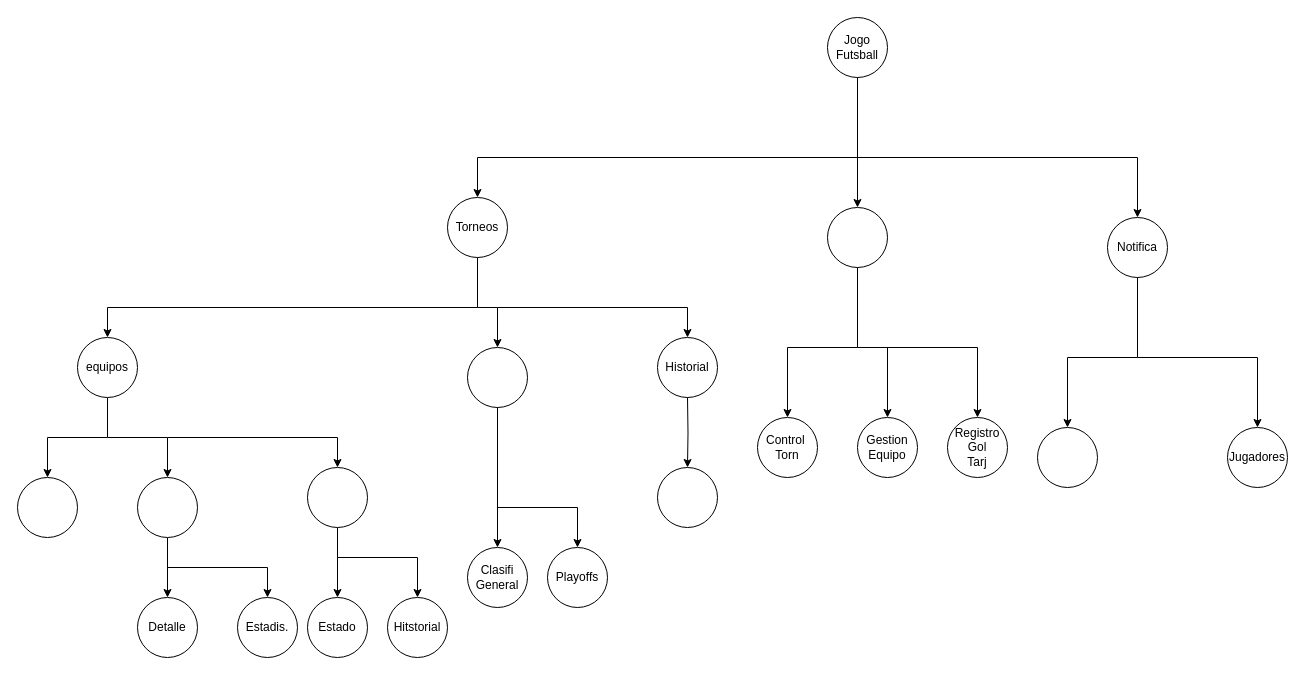
The diagram is 1305 pixels wide and 675 high, and some of its shapes have lost their labels. Each missing label, with the box of its shape:
Admin.: (826, 206, 888, 268)
Adminis: (1036, 426, 1098, 488)
Clasifi.: (466, 346, 528, 408)
juadores: (16, 476, 78, 538)
Pagos: (306, 466, 368, 528)
partidos: (136, 476, 198, 538)
Result: (656, 466, 718, 528)
